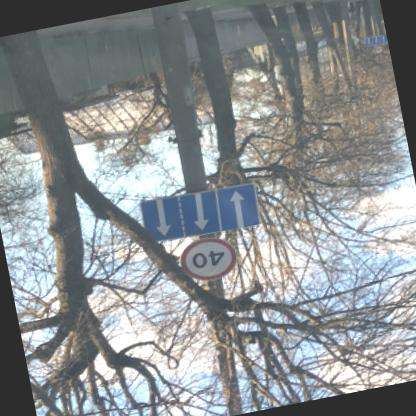speedlimit: (180, 233, 242, 286)
